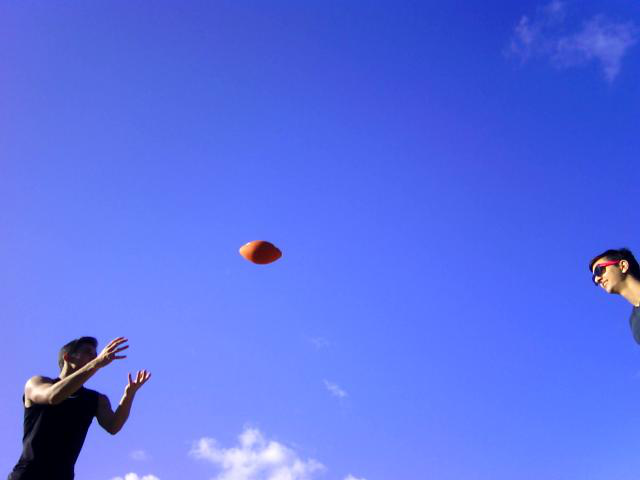football: (239, 235, 289, 269)
